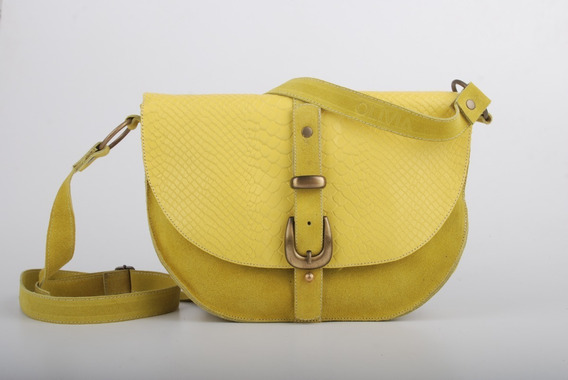cartera: (133, 75, 491, 328)
